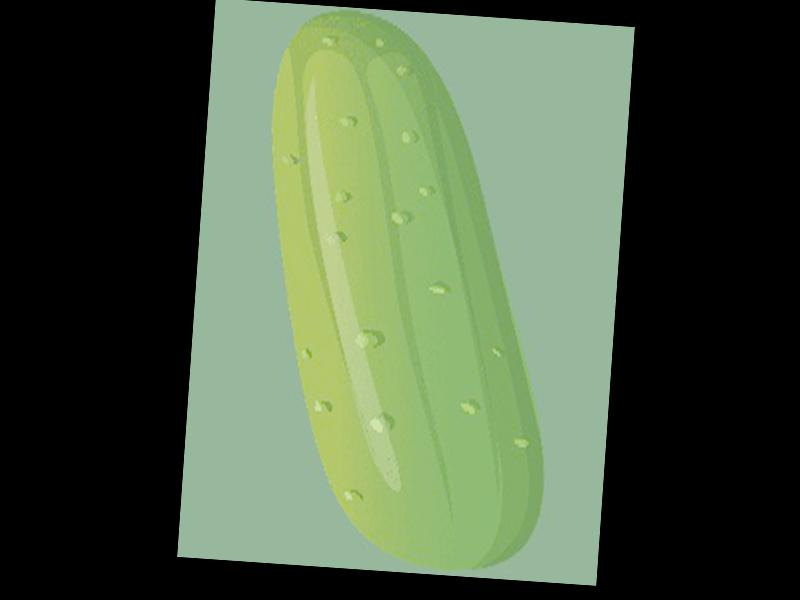Cucumber: (242, 7, 575, 578)
